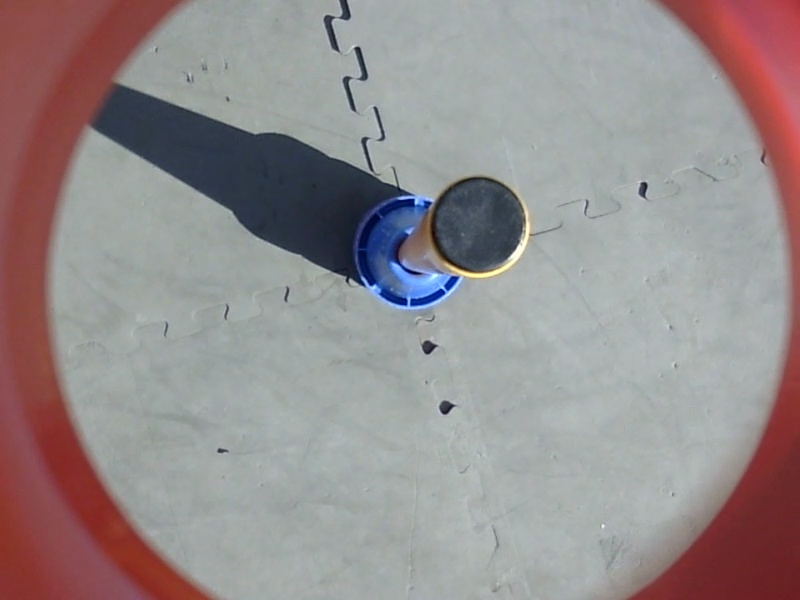tip: (423, 171, 534, 282)
